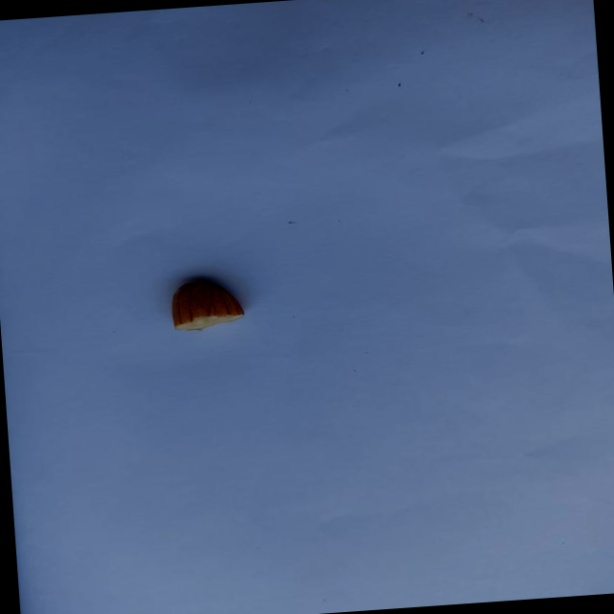grade4: (163, 271, 254, 337)
